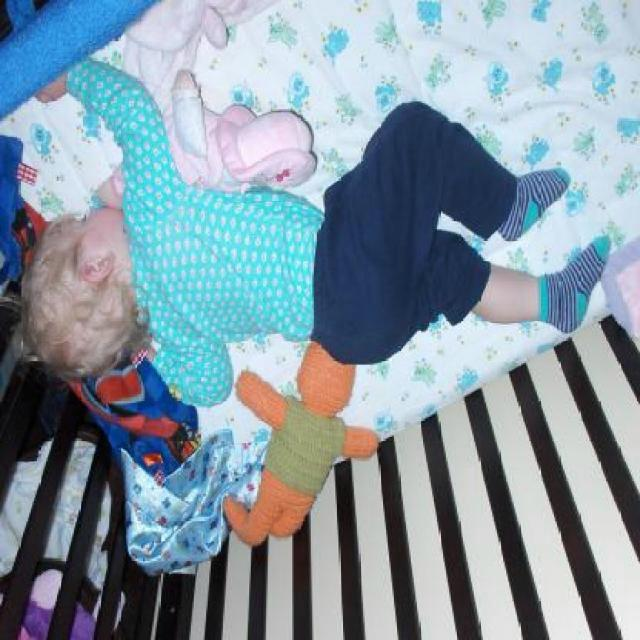child: (9, 57, 612, 408)
